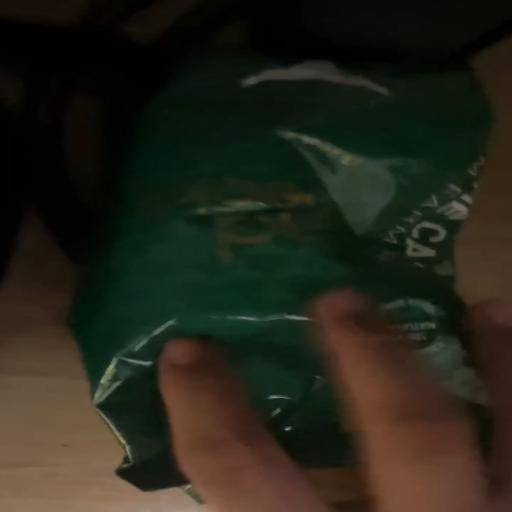cafe_xay: (73, 54, 489, 490)
